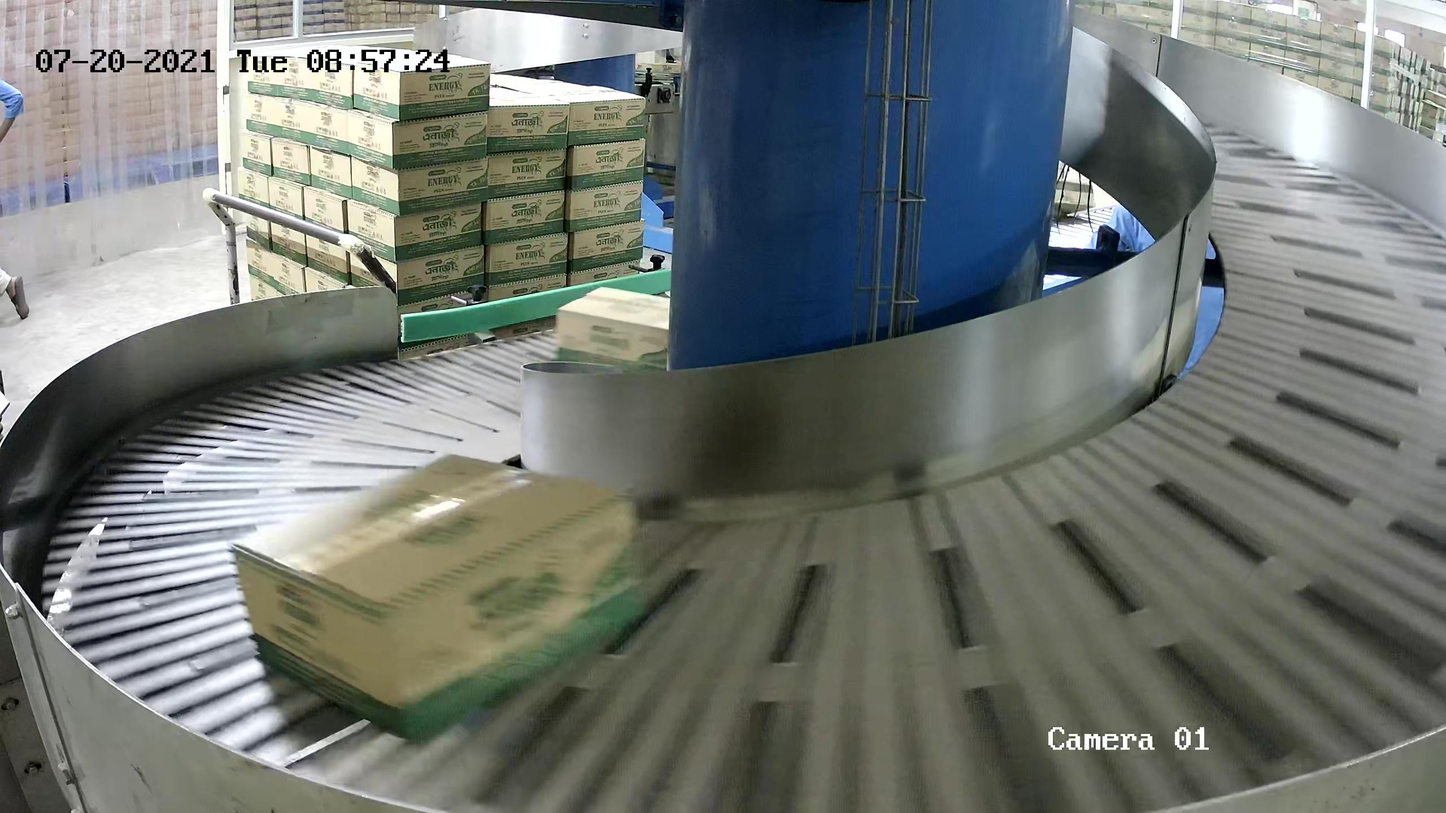Box: (229, 451, 646, 750), (555, 285, 697, 386)
